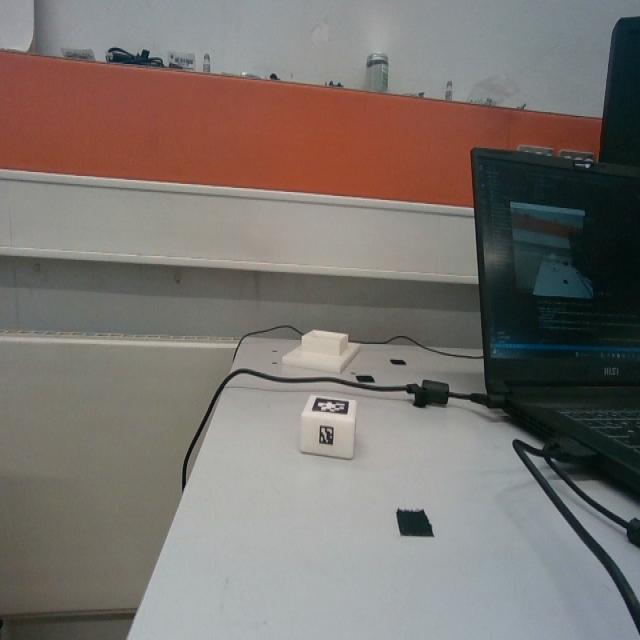Cube: (300, 386, 360, 466)
